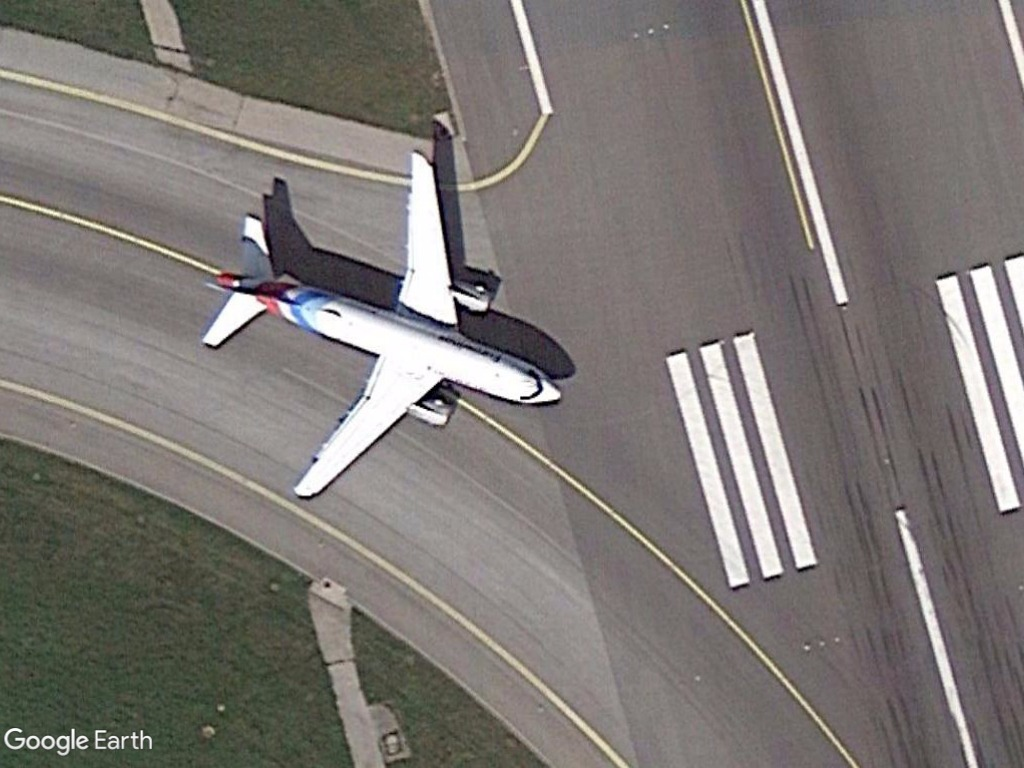airliner: (193, 142, 571, 506)
